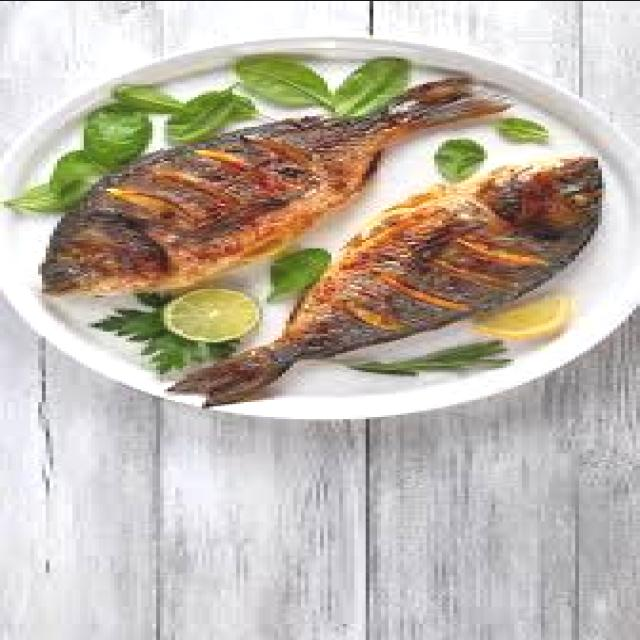ikan goreng: (175, 154, 606, 403), (42, 79, 514, 297)
